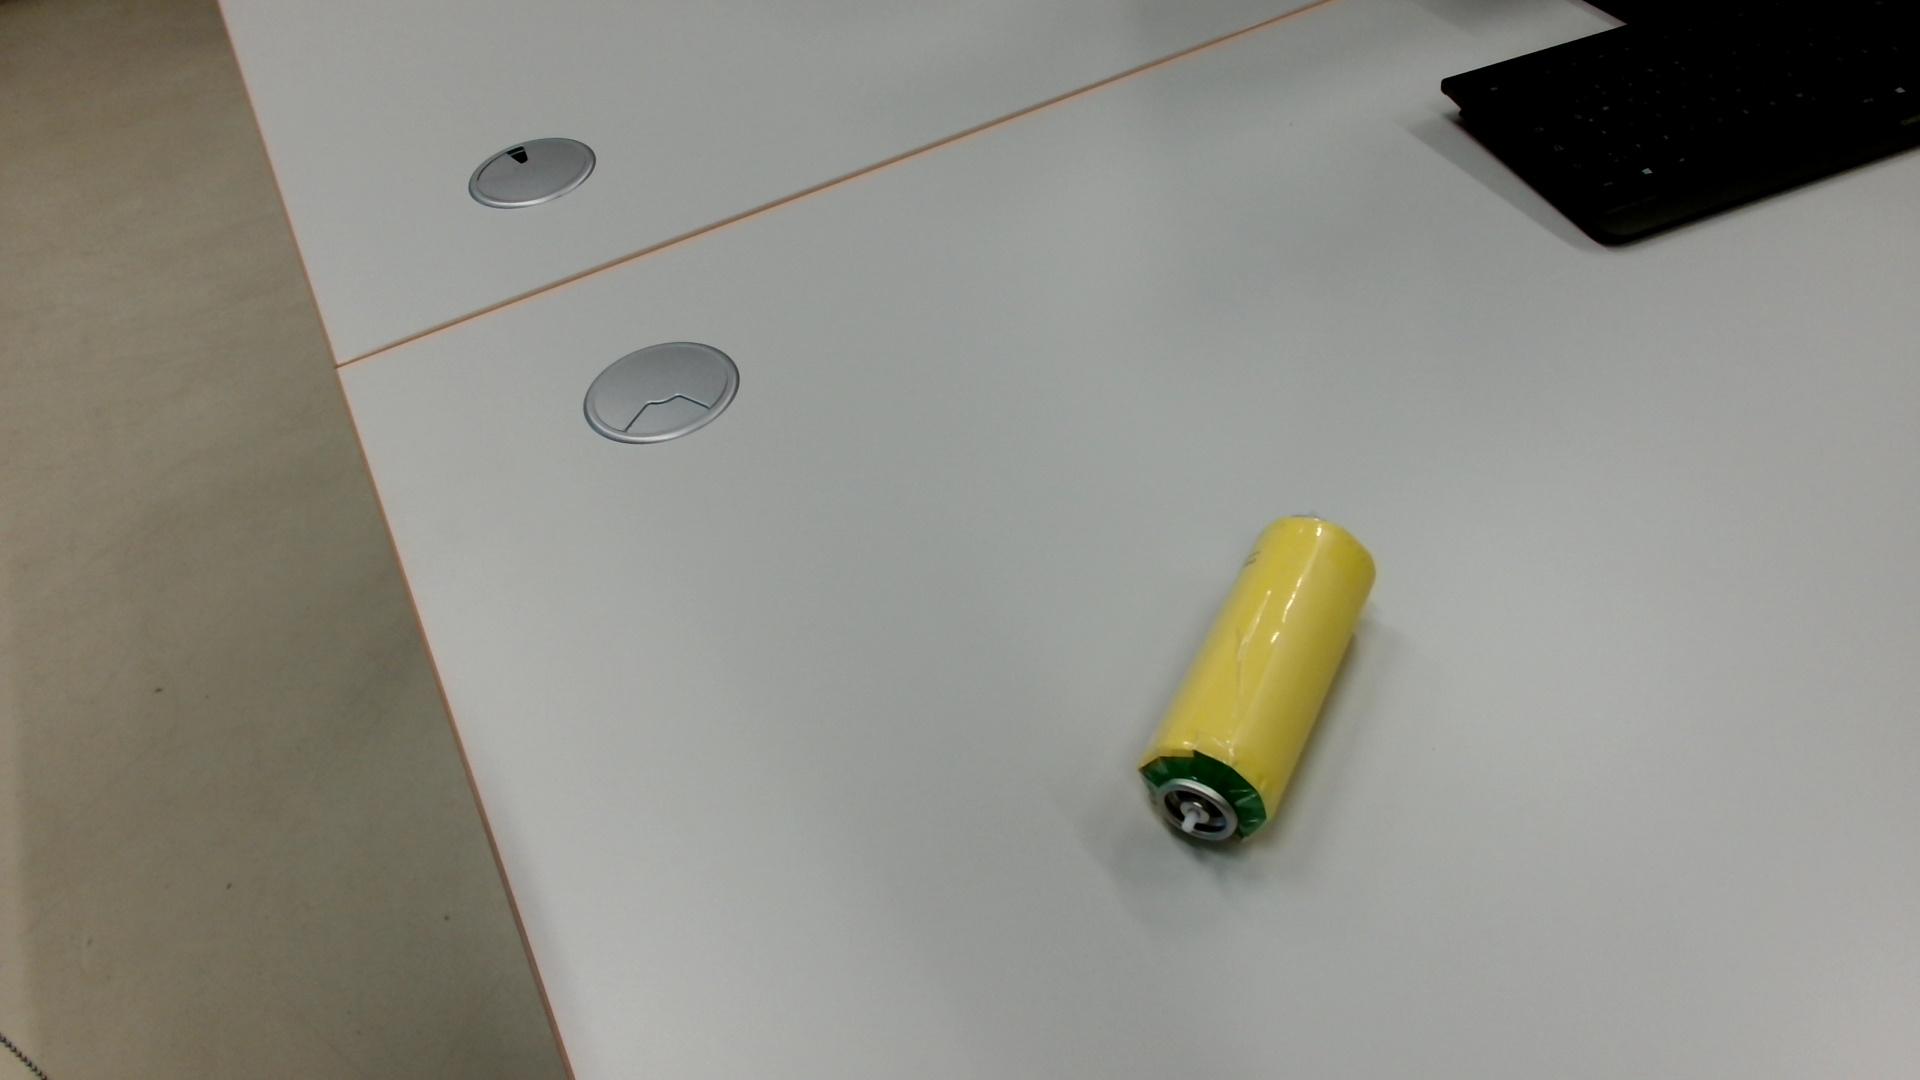Cylinder: (1129, 505, 1393, 868)
